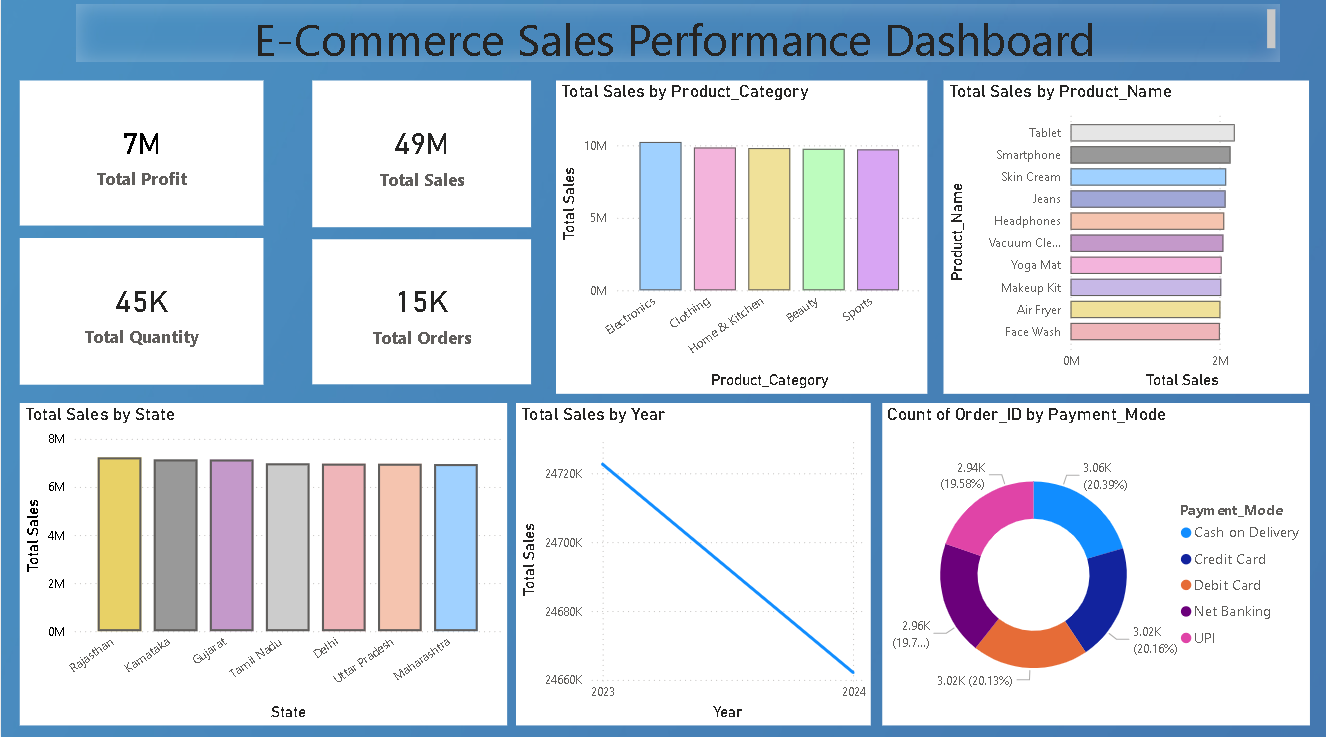

Layout of this report page (visuals, bound fields, positions):
{"tool":"powerbi","page":{"name":"Page 1","canvas":[1280,720],"ordinal":0},"visuals":[{"type":"columnChart","fields":{"Category":["ecommerce_sales_dataset_15000_r.State"],"Y":["ecommerce_sales_dataset_15000_r.Total Sales"]},"box":[17.5,396.2,470,311.2],"z":0},{"type":"clusteredColumnChart","fields":{"Category":["ecommerce_sales_dataset_15000_r.Product_Category"],"Y":["ecommerce_sales_dataset_15000_r.Total Sales"]},"box":[536.2,85,358.8,302.5],"z":1000},{"type":"clusteredBarChart","fields":{"Category":["ecommerce_sales_dataset_15000_r.Product_Name"],"Y":["ecommerce_sales_dataset_15000_r.Total Sales"]},"box":[910,85,352.5,302.5],"z":2000},{"type":"donutChart","fields":{"Category":["ecommerce_sales_dataset_15000_r.Payment_Mode"],"Y":["CountNonNull(ecommerce_sales_dataset_15000_r.Order_ID)"]},"box":[850,396.2,412.5,311.2],"z":3000},{"type":"lineChart","fields":{"Category":["ecommerce_sales_dataset_15000_r.Order_Date.Variation.Date Hierarchy.Year","ecommerce_sales_dataset_15000_r.Order_Date.Variation.Date Hierarchy.Quarter","ecommerce_sales_dataset_15000_r.Order_Date.Variation.Date Hierarchy.Month","ecommerce_sales_dataset_15000_r.Order_Date.Variation.Date Hierarchy.Day"],"Y":["ecommerce_sales_dataset_15000_r.Total Sales"]},"box":[497.5,396.2,342.5,311.2],"z":4000},{"type":"card","fields":{"Values":["ecommerce_sales_dataset_15000_r.Total Sales"]},"box":[300,85,211.2,141.2],"z":5000},{"type":"card","fields":{"Values":["ecommerce_sales_dataset_15000_r.Total Orders"]},"box":[300,237.5,211.2,140],"z":6000},{"type":"card","fields":{"Values":["ecommerce_sales_dataset_15000_r.Total Quantity"]},"box":[17.5,236.2,235,141.2],"z":7000},{"type":"card","fields":{"Values":["ecommerce_sales_dataset_15000_r.Total Profit"]},"box":[17.5,85,235,140],"z":8000},{"type":"textbox","box":[72.5,11.2,1162.5,56.2],"z":9000}]}

Visuals, with their boxes in screenshot pixels (x1, y1, x2, y2), scaled from the page's 1280x720 canvas onto the 1326x737 screenshot:
columnChart - ecommerce_sales_dataset_15000_r.State x ecommerce_sales_dataset_15000_r.Total Sales: (18,406,505,724)
clusteredColumnChart - ecommerce_sales_dataset_15000_r.Product_Category x ecommerce_sales_dataset_15000_r.Total Sales: (555,87,927,397)
clusteredBarChart - ecommerce_sales_dataset_15000_r.Product_Name x ecommerce_sales_dataset_15000_r.Total Sales: (943,87,1308,397)
donutChart - ecommerce_sales_dataset_15000_r.Payment_Mode x CountNonNull(ecommerce_sales_dataset_15000_r.Order_ID): (881,406,1308,724)
lineChart - ecommerce_sales_dataset_15000_r.Order_Date.Variation.Date Hierarchy.Year x ecommerce_sales_dataset_15000_r.Order_Date.Variation.Date Hierarchy.Quarter: (515,406,870,724)
card - ecommerce_sales_dataset_15000_r.Total Sales: (311,87,530,232)
card - ecommerce_sales_dataset_15000_r.Total Orders: (311,243,530,386)
card - ecommerce_sales_dataset_15000_r.Total Quantity: (18,242,262,386)
card - ecommerce_sales_dataset_15000_r.Total Profit: (18,87,262,230)
textbox: (75,11,1279,69)
